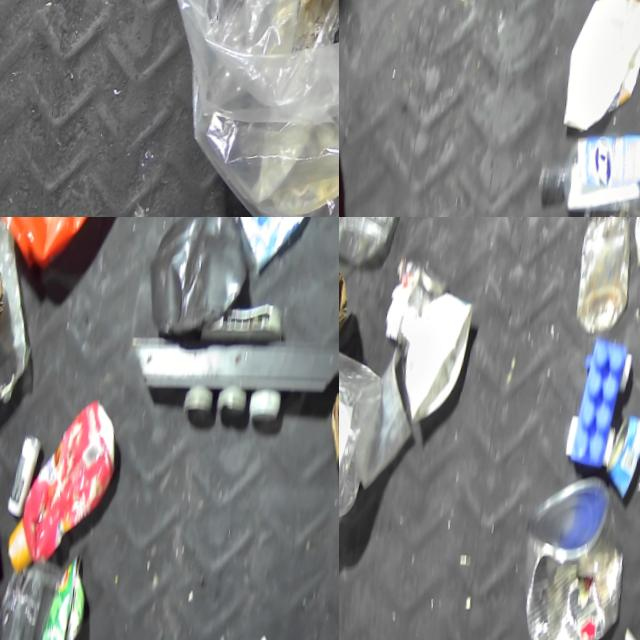can: (509, 469, 640, 640), (49, 554, 101, 640), (400, 267, 448, 352), (14, 432, 49, 519), (610, 411, 640, 499), (0, 464, 11, 581), (0, 555, 12, 640)
milk_jug: (564, 0, 640, 134)
non_white_jug: (12, 396, 130, 580), (0, 217, 138, 271)
plastic_bottle: (339, 217, 420, 269)
